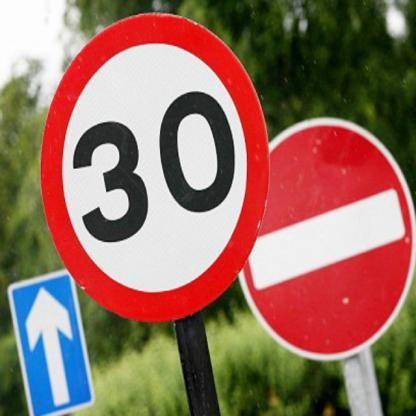Speed Limit 30: (40, 12, 270, 321)
